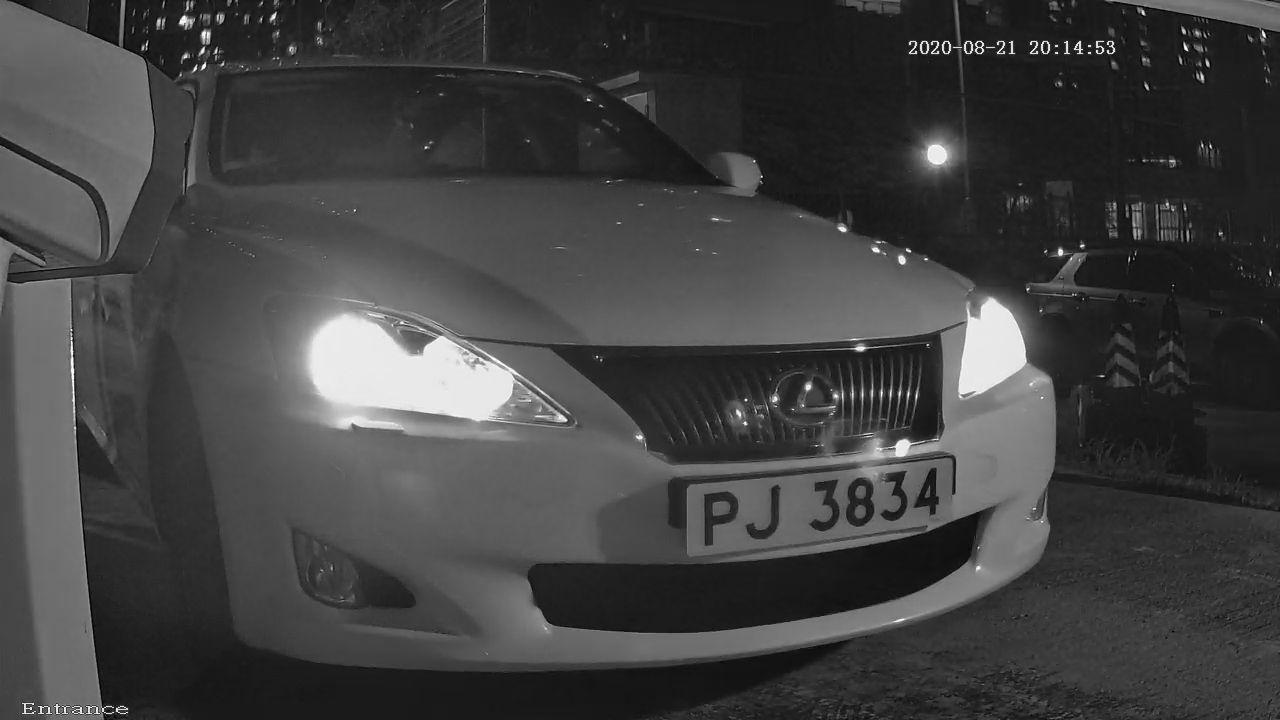License Plate: (634, 423, 983, 595)
